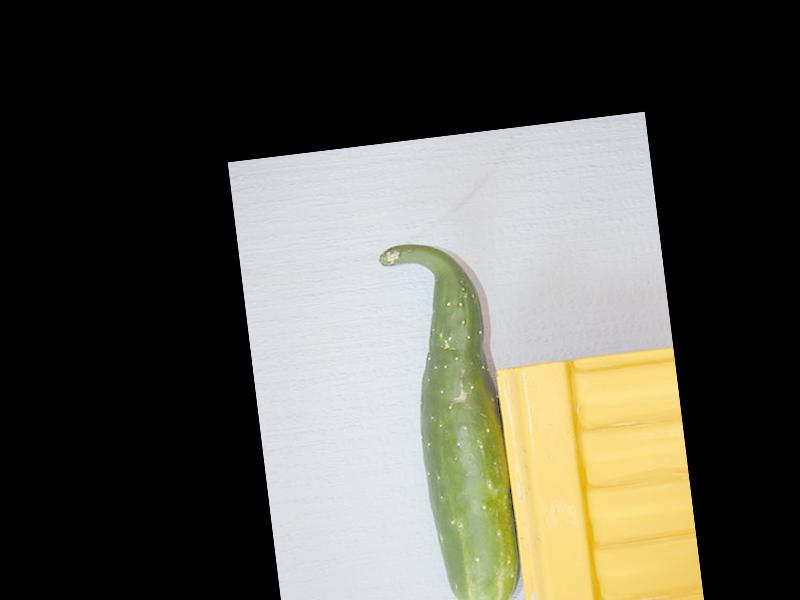Cucumber: (376, 233, 525, 600)
